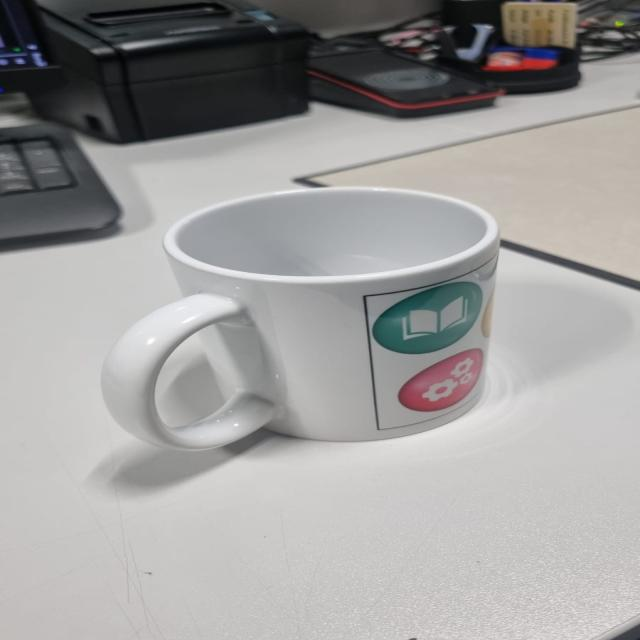Cup: (102, 187, 499, 452)
